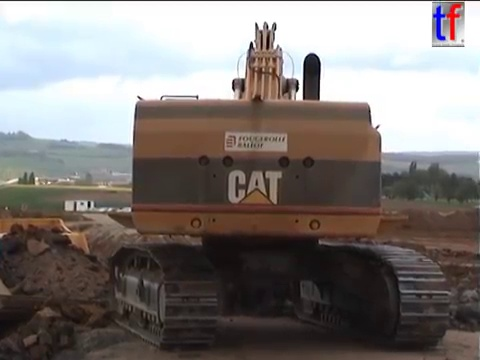excavator: (100, 18, 456, 353)
truck: (1, 213, 124, 360)
